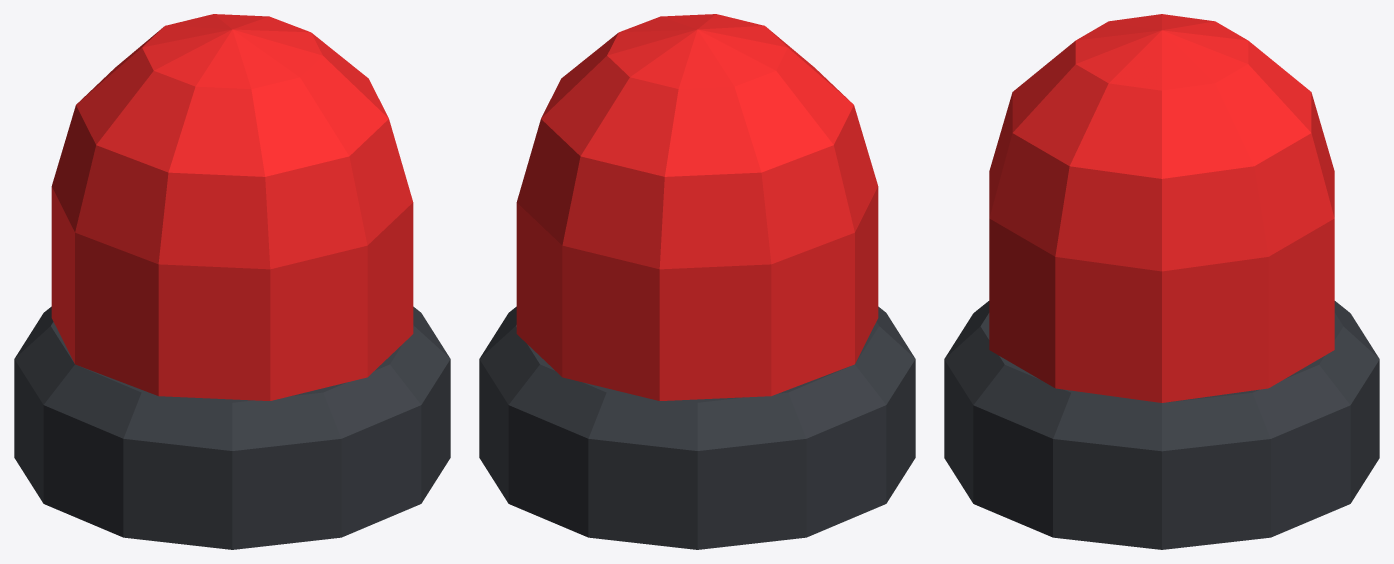
Rendered from FX_AlarmBeacon.fbx.
3 renders of one model, left to right at view 1: azimuth 30°, elevation 25°; view 2: azimuth 150°, elevation 25°; view 3: azimuth 270°, elevation 25°, orthographic.
Visible parts, largest first — view 1: Dome, Base; view 2: Dome, Base; view 3: Dome, Base.
Boxes of the visible parts, bbox=[...] form: Dome: bbox=[51, 14, 413, 400]; Base: bbox=[14, 306, 450, 549]; Dome: bbox=[516, 14, 878, 400]; Base: bbox=[479, 306, 915, 549]; Dome: bbox=[989, 14, 1334, 402]; Base: bbox=[944, 301, 1379, 549].
Size of the model in its own units: 1.2 by 1.3 by 1.2.
